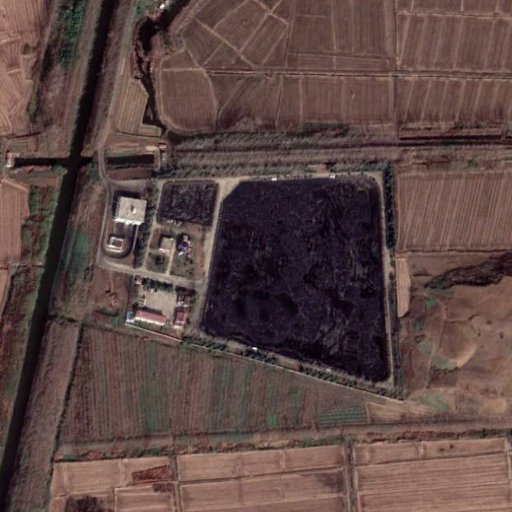lf: (199, 173, 392, 383)
